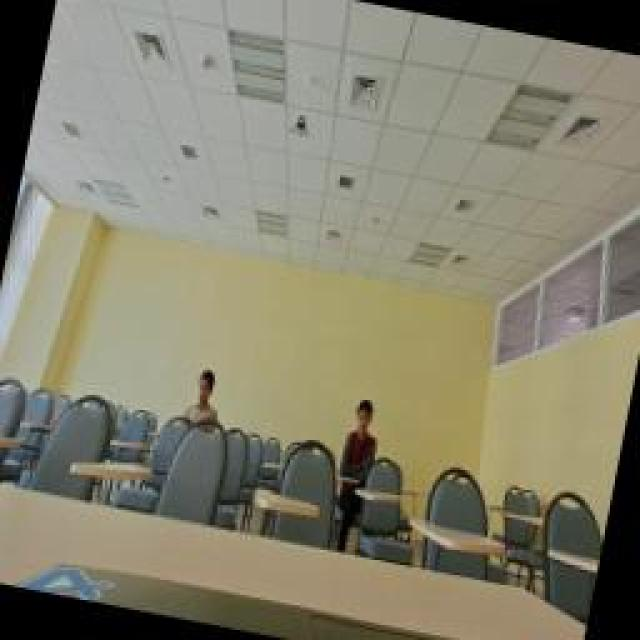study: (337, 400, 385, 482), (178, 368, 228, 438)
